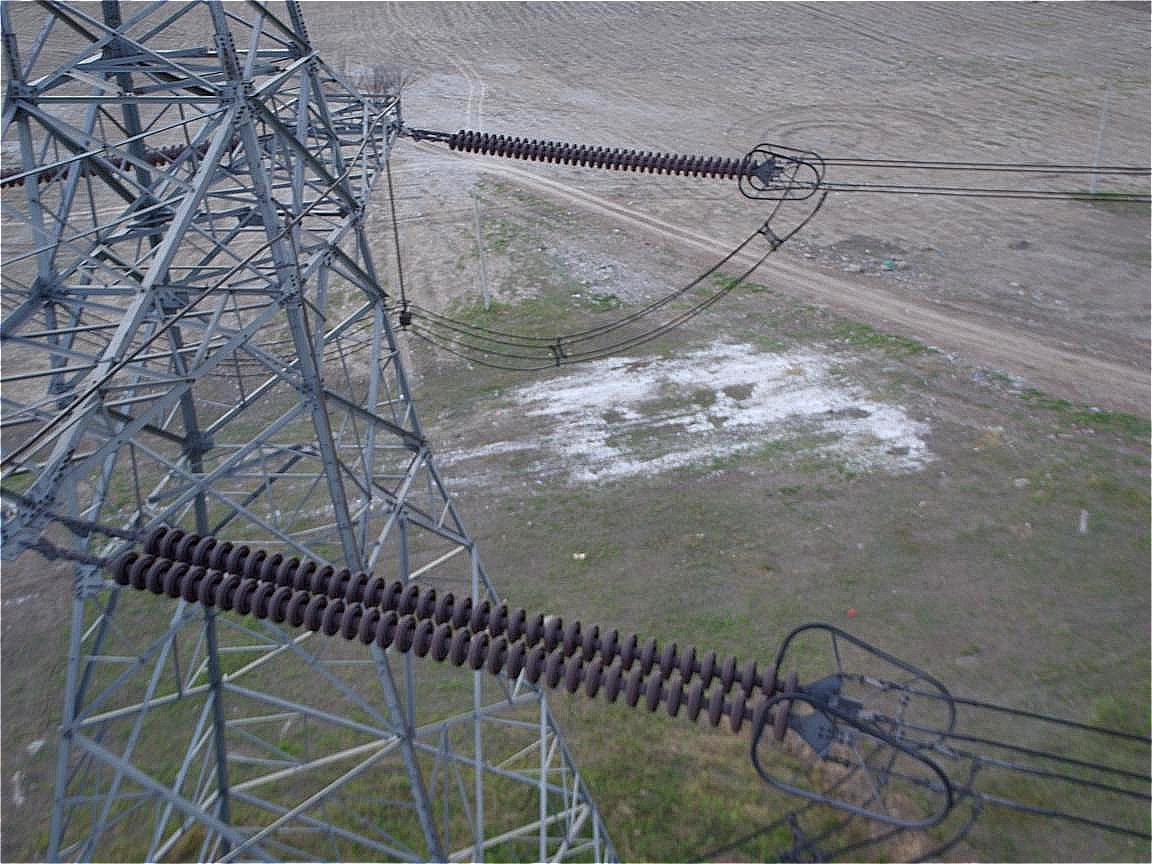insultor1: (113, 525, 801, 744), (447, 126, 758, 181)
